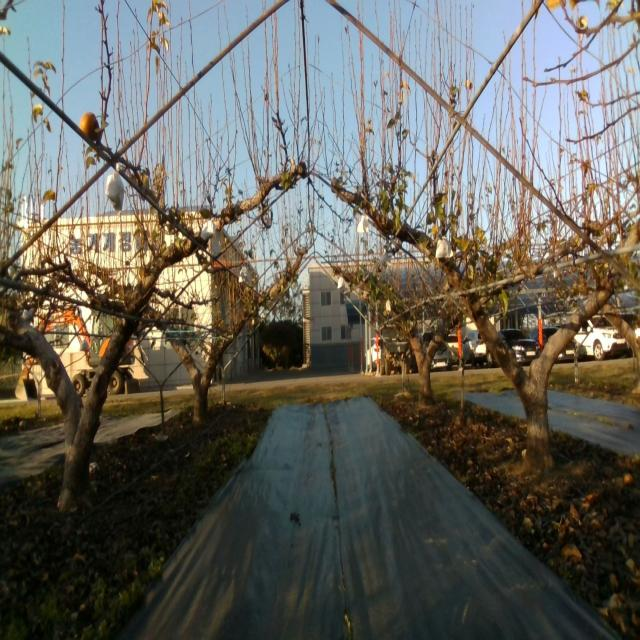pearbags: (104, 162, 124, 214), (436, 235, 454, 258), (200, 217, 216, 242), (356, 215, 369, 233), (379, 252, 392, 270)
